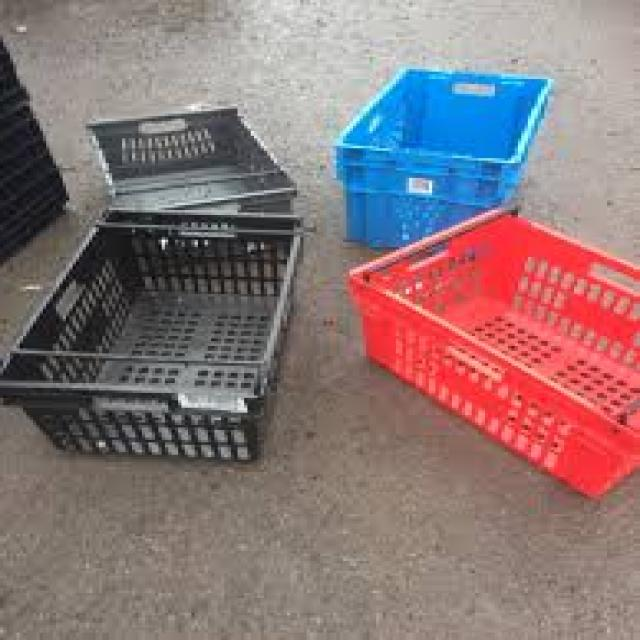basket: (0, 71, 329, 493), (330, 65, 553, 259)
